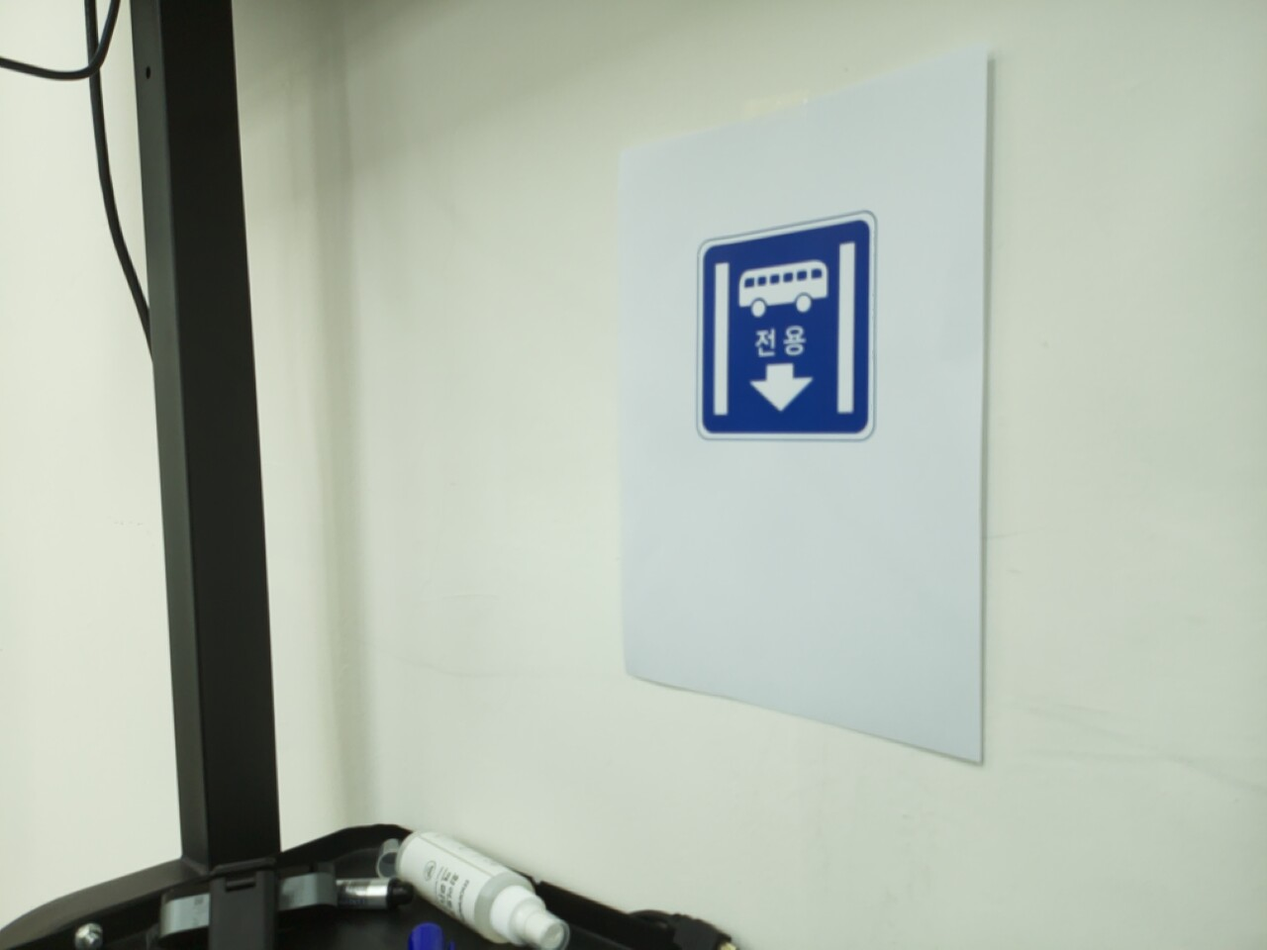bus_only_lane: (695, 212, 877, 442)
